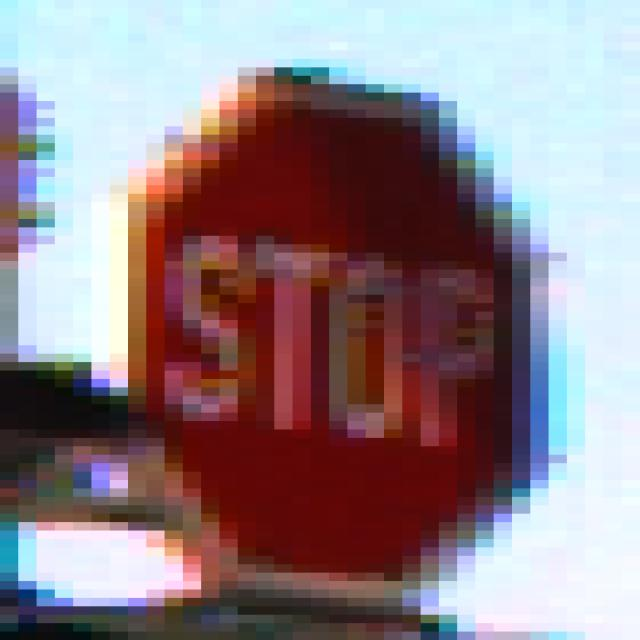STOP: (111, 60, 550, 590)
